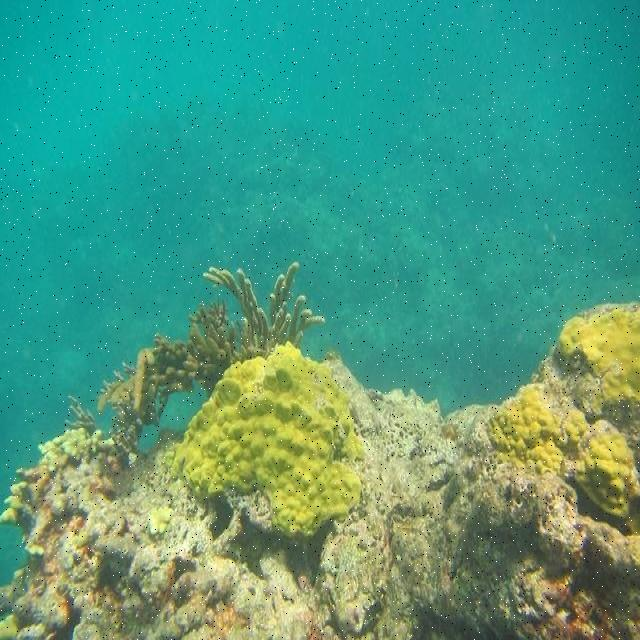aquatic plants: (65, 261, 324, 457), (183, 345, 363, 537), (560, 304, 639, 537), (490, 389, 565, 473)
sea-floor: (1, 356, 639, 638)
